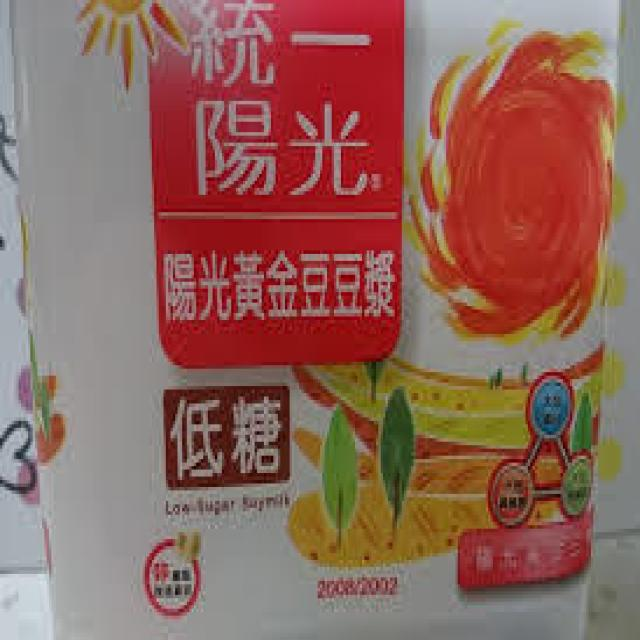TongYi_SoyMilk: (14, 5, 601, 637)
